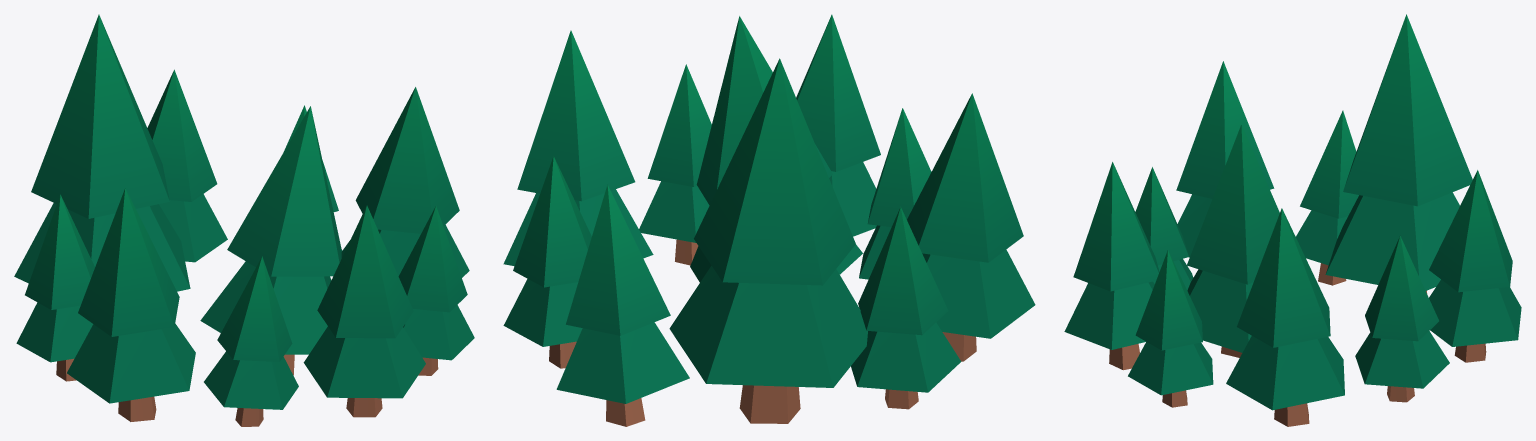
The model's file is hex-trees_A_medium.glb.
3 renders of one model, left to right at view 1: azimuth 30°, elevation 25°; view 2: azimuth 150°, elevation 25°; view 3: azimuth 270°, elevation 25°, orthographic. The views are drawn at different scales.
Visible parts, largest first — view 1: trees_A_medium; view 2: trees_A_medium; view 3: trees_A_medium.
Boxes of the visible parts, left/top/right/bottom form: trees_A_medium: left=14, top=14, right=474, bottom=426; trees_A_medium: left=503, top=14, right=1035, bottom=426; trees_A_medium: left=1064, top=14, right=1521, bottom=426.
Bounding box in the file's own units: 1.75 × 1.3 × 1.81.
1 material, 1 textured.
